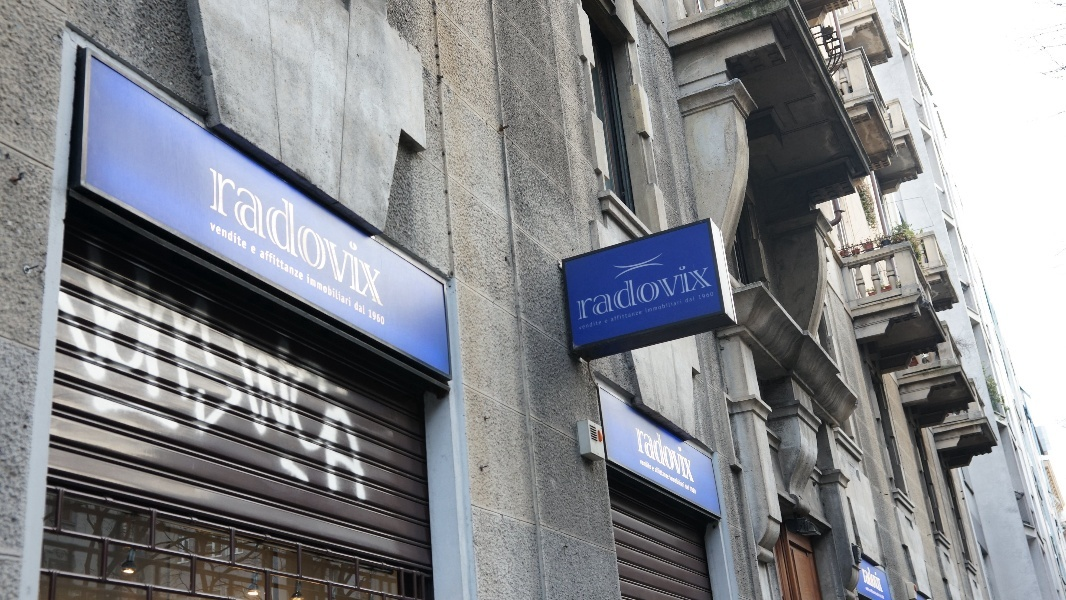text: (65, 232, 80, 509), (81, 232, 96, 509), (97, 232, 112, 509), (113, 232, 128, 509), (129, 232, 144, 509), (145, 232, 160, 509), (161, 232, 176, 509), (177, 232, 192, 509), (193, 232, 208, 509), (209, 232, 224, 509), (225, 232, 240, 509), (241, 232, 256, 509), (257, 232, 272, 509), (273, 232, 288, 509), (289, 232, 304, 509), (305, 232, 320, 509), (321, 232, 336, 509), (337, 232, 352, 509), (353, 232, 368, 509), (369, 153, 385, 311), (225, 153, 240, 311), (241, 153, 256, 311), (257, 153, 272, 311), (273, 153, 288, 311), (289, 153, 304, 311), (305, 153, 320, 311), (321, 153, 336, 311), (337, 153, 352, 311), (353, 153, 368, 311), (210, 153, 224, 311), (369, 232, 373, 509), (577, 258, 592, 323), (593, 258, 608, 323), (609, 258, 624, 323), (625, 258, 640, 323), (641, 258, 656, 323), (657, 258, 672, 323), (673, 258, 688, 323), (689, 258, 704, 323), (641, 420, 656, 484), (657, 420, 672, 484), (673, 420, 688, 484), (273, 246, 288, 282), (289, 246, 304, 282), (321, 273, 336, 308), (337, 273, 352, 308), (705, 258, 713, 323), (306, 273, 320, 308), (225, 221, 240, 251), (865, 565, 880, 593), (261, 246, 272, 282), (211, 221, 224, 251), (689, 420, 695, 484), (635, 420, 640, 484), (369, 309, 384, 327), (657, 299, 672, 314), (354, 301, 368, 316), (625, 310, 640, 323), (657, 466, 670, 480), (866, 587, 880, 600), (241, 221, 247, 251), (673, 474, 685, 489), (611, 310, 624, 323), (645, 299, 656, 314), (579, 320, 592, 331), (673, 299, 682, 314), (641, 459, 652, 470), (690, 486, 704, 494), (593, 320, 602, 331), (881, 565, 884, 593), (705, 291, 714, 300), (689, 296, 696, 304), (862, 565, 864, 593), (698, 291, 704, 300), (881, 587, 885, 600), (251, 245, 256, 255), (669, 474, 672, 489), (641, 310, 643, 323), (685, 296, 688, 304), (685, 484, 688, 491), (652, 466, 656, 471), (655, 466, 656, 480), (689, 484, 691, 491), (605, 320, 608, 324)
